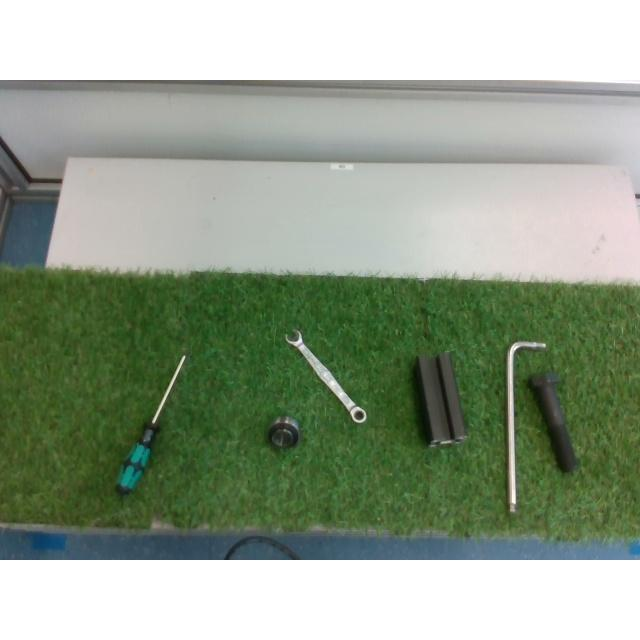AllenKey: (506, 341, 546, 513)
Bearing2: (268, 416, 300, 448)
M20_100: (529, 372, 579, 472)
S40_40_B: (417, 352, 467, 446)
Screwdriver: (116, 354, 186, 494)
Wrench: (286, 329, 366, 423)
